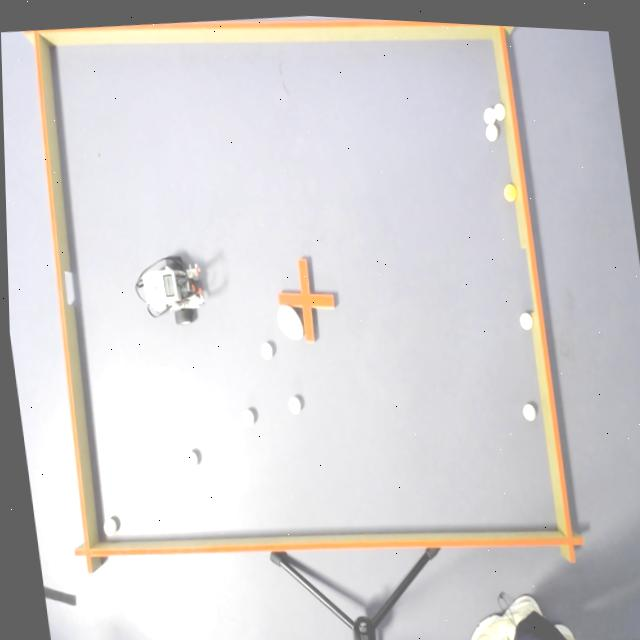boundaries: (22, 19, 586, 575), (50, 40, 560, 540)
cross: (276, 258, 336, 344)
egg: (275, 302, 304, 342)
large_goal: (519, 240, 544, 316)
orange_ball: (503, 183, 517, 203)
robot: (130, 250, 209, 331)
small_goal: (54, 264, 77, 310)
white_ball: (240, 407, 256, 429), (259, 339, 274, 361), (184, 450, 199, 470), (287, 395, 302, 415), (484, 123, 499, 143), (482, 105, 497, 125), (102, 518, 118, 536), (522, 402, 536, 422), (519, 310, 533, 330), (493, 101, 506, 120)
